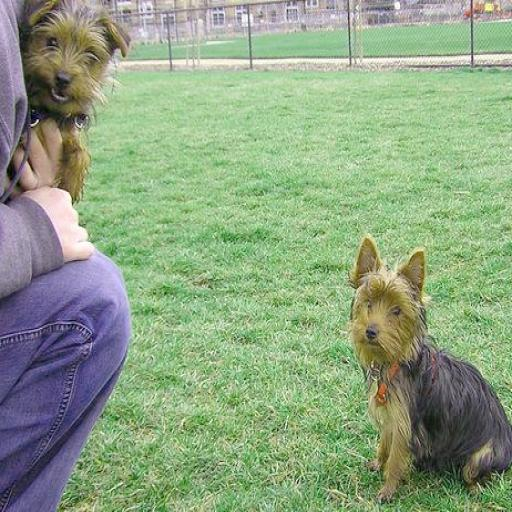dog_face: (23, 0, 131, 119), (342, 233, 427, 366)
